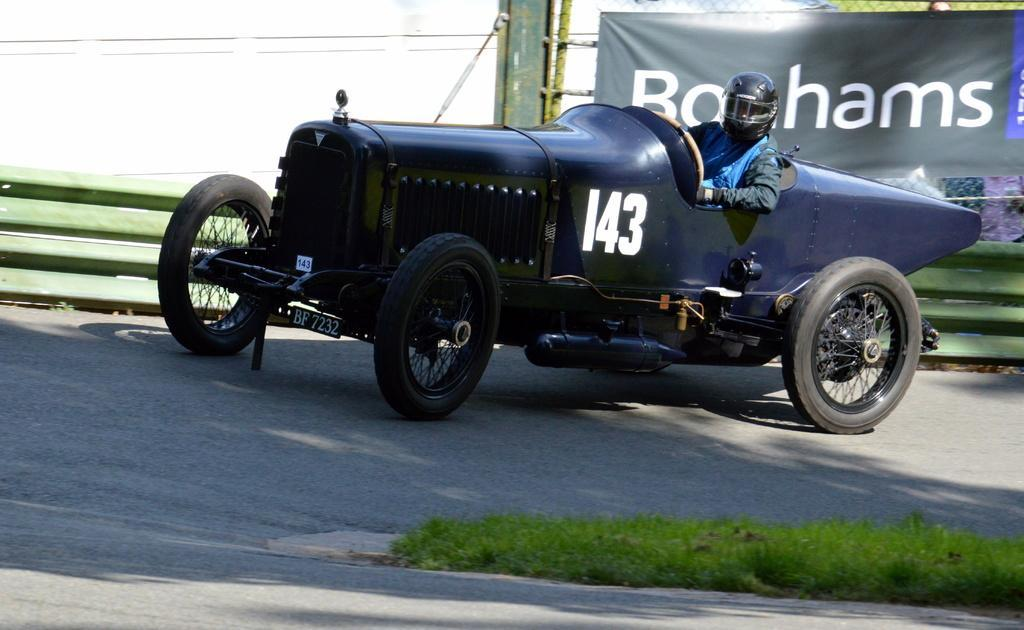helmet: (718, 70, 781, 142)
